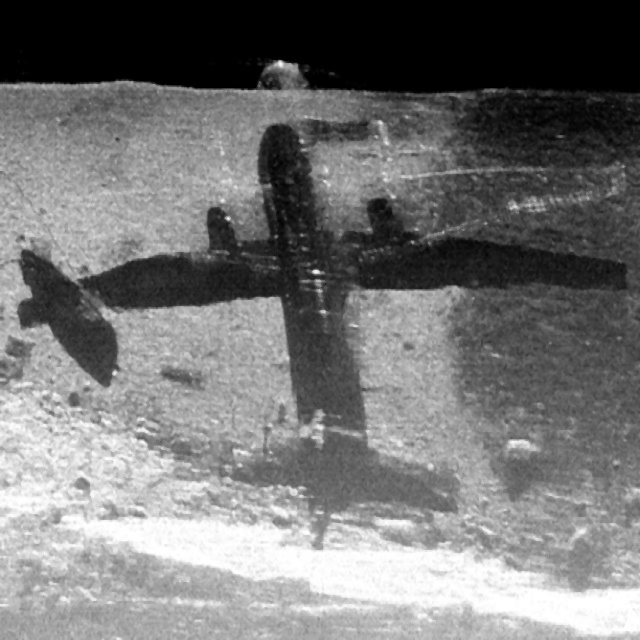Plane: (14, 109, 632, 510)
